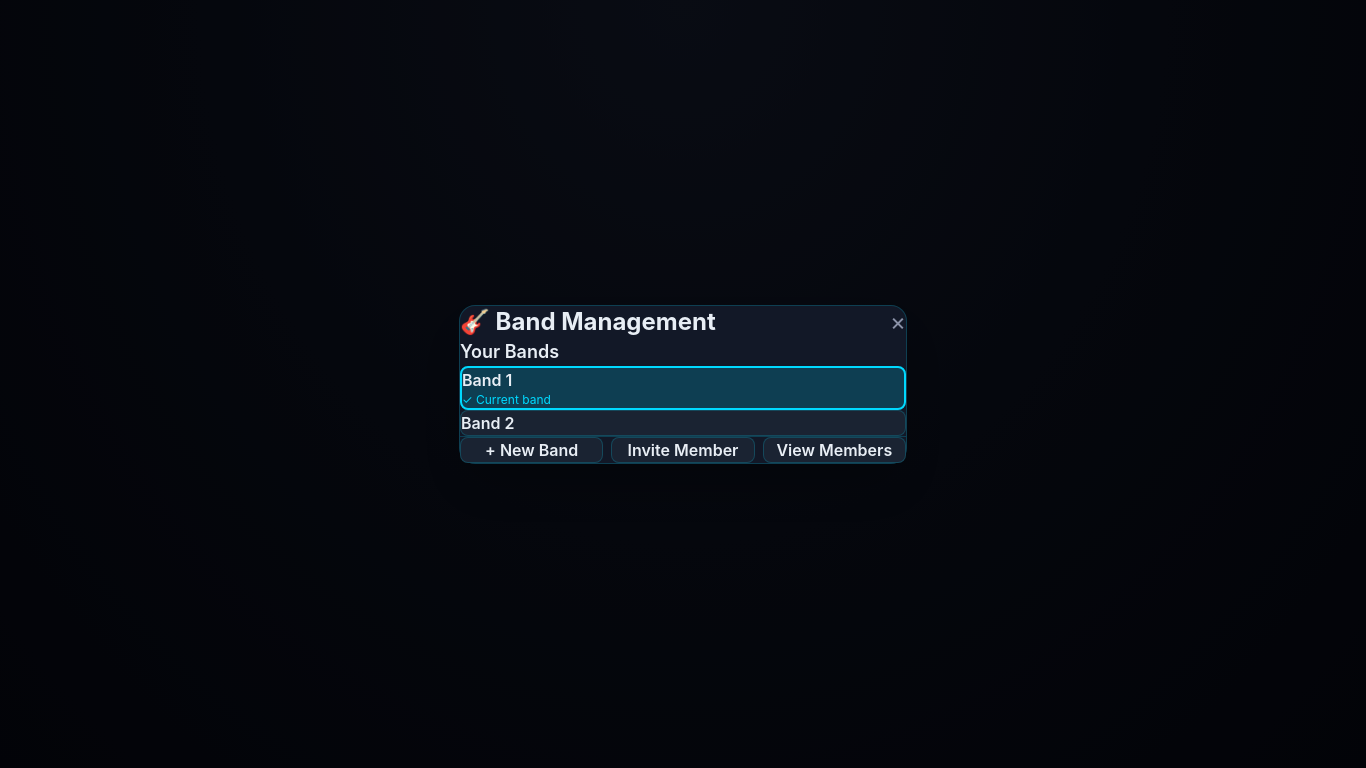
BandModal › should show invite form when clicking "Invite Member"
Step 1. Click the button "Invite Member" → point(683, 450), box [611, 436, 755, 462]
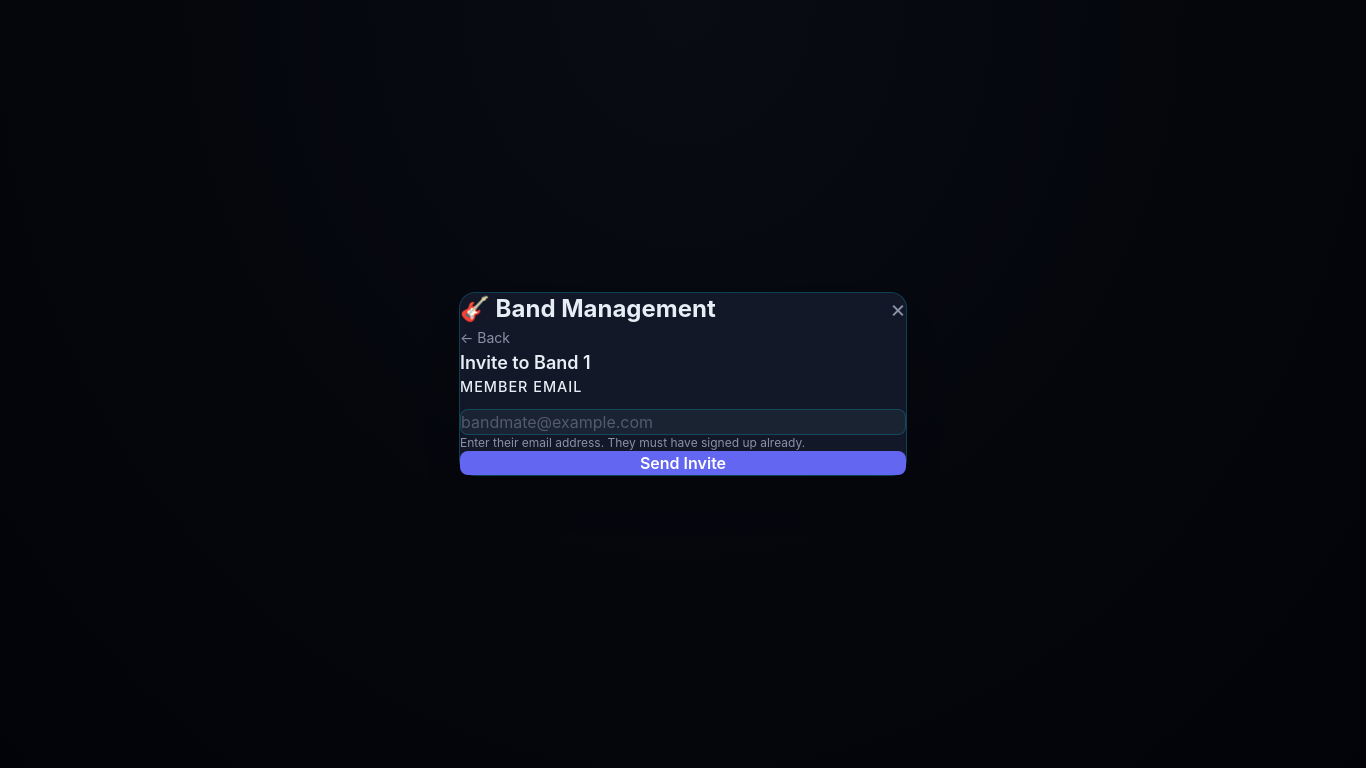
Expected: the heading "Invite to Band 1" is shown, [460, 352, 591, 373]
Expected: the field with placeholder "bandmate@example.com" is shown, [460, 409, 906, 435]
